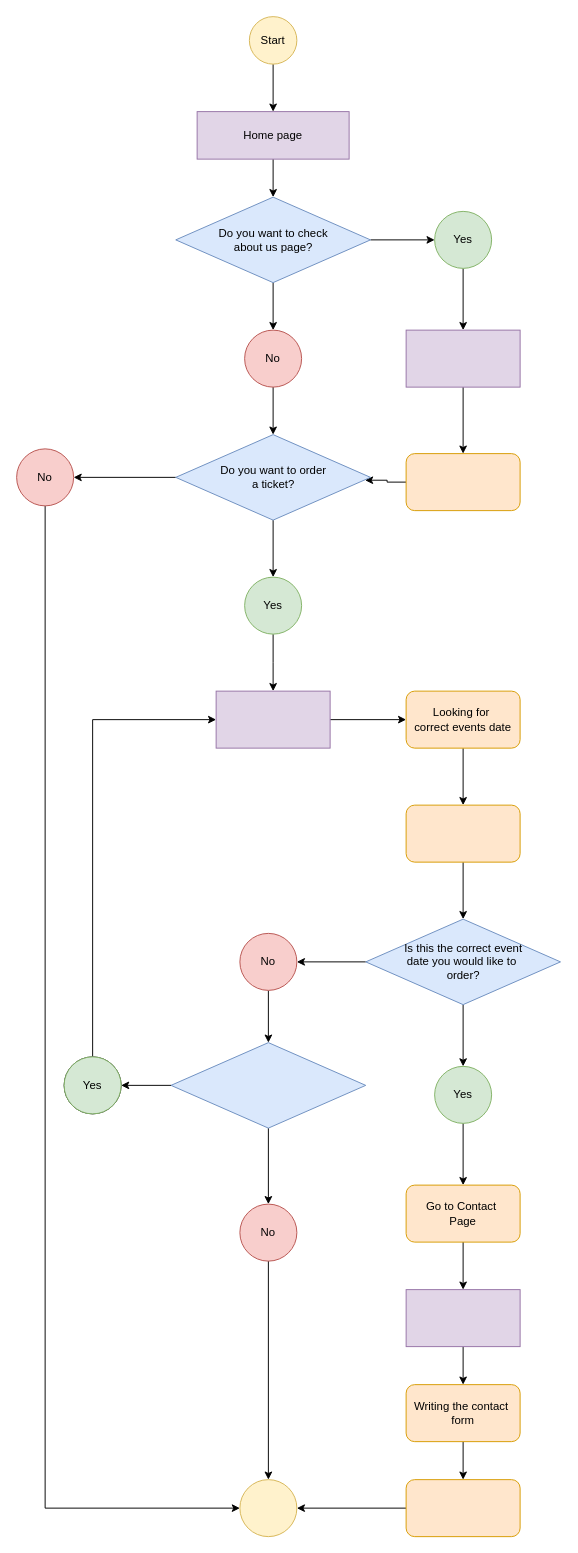
The diagram is 578 pixels wide and 1553 high, and some of its shapes have lost their labels. Here are the shapes that lost their labels. From the top down, the box of each, then its label:
(405, 329, 520, 387): About Us page
(405, 453, 520, 511): Read About Us Page
(215, 690, 330, 748): Events Page
(405, 804, 520, 862): Pick the events date
(170, 1042, 366, 1128): Search again?
(405, 1289, 520, 1347): Contact Page
(239, 1479, 297, 1537): END
(405, 1479, 520, 1537): Getting the ticket for the events
